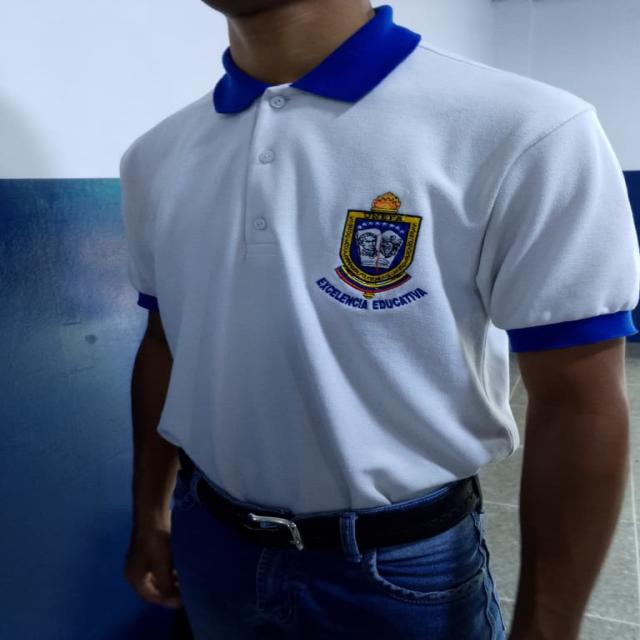uniforme_superior: (117, 3, 640, 515)
